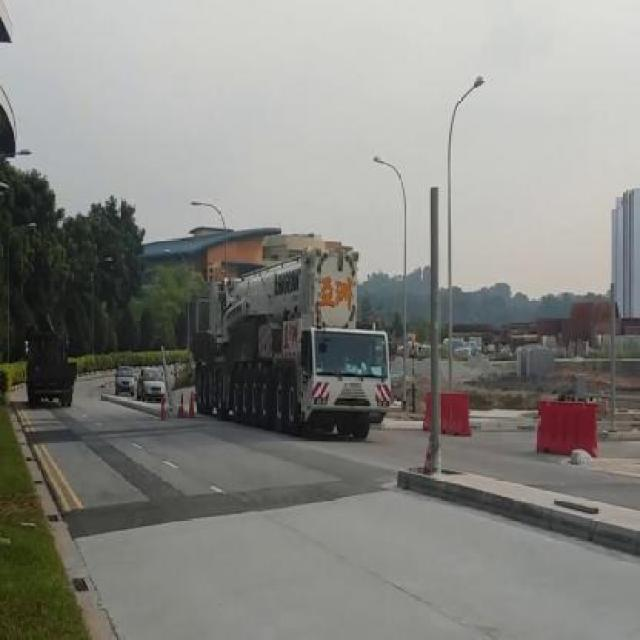Mobile Crane: (194, 251, 388, 435)
